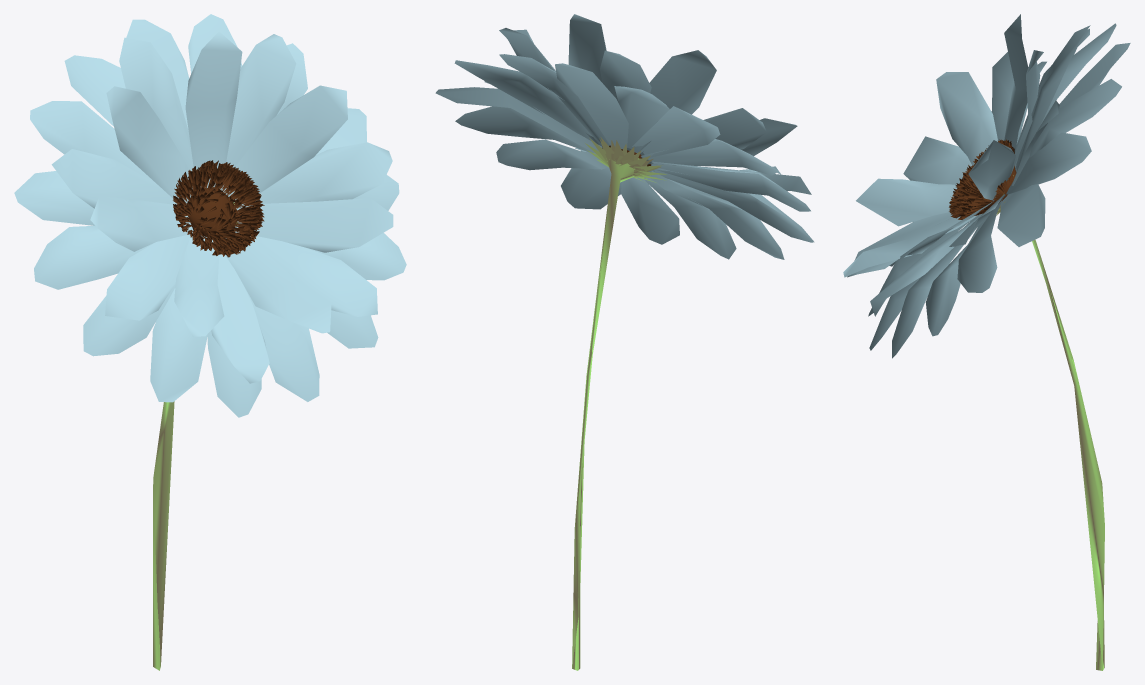
3 renders of one model, left to right at view 1: azimuth 30°, elevation 25°; view 2: azimuth 150°, elevation 25°; view 3: azimuth 270°, elevation 25°, orthographic. The views are drawn at different scales.
Visible parts, largest first — view 1: flover.002; view 2: flover.002; view 3: flover.002.
Part boxes in pixels (<box>): flover.002: <box>14,14,406,670</box>; flover.002: <box>435,14,814,670</box>; flover.002: <box>843,14,1130,670</box>.
Size of the model in its own units: 0.1865 by 0.3165 by 0.1302.
